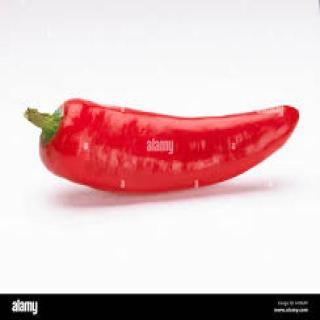Cabai Merah: (34, 95, 320, 213)
